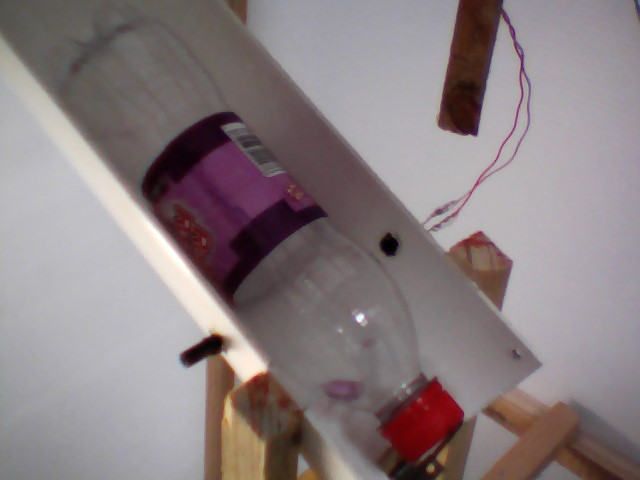plastico: (29, 2, 470, 467)
